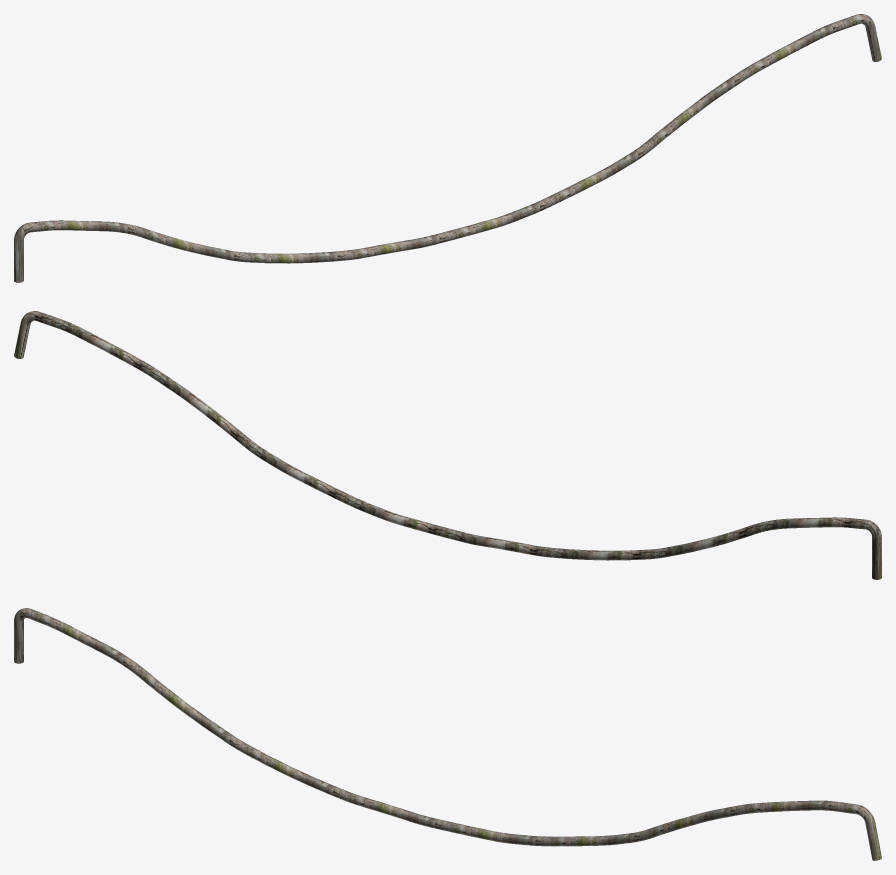
3 views of the same model, one above another, from view 1: azimuth 30°, elevation 25°; view 2: azimuth 150°, elevation 25°; view 3: azimuth 330°, elevation 25° (orthographic).
Visible parts, largest first — view 1: Line002; view 2: Line002; view 3: Line002.
Part boxes in pixels (left/top/right/bottom): Line002: left=14, top=14, right=881, bottom=282; Line002: left=14, top=311, right=881, bottom=579; Line002: left=14, top=608, right=881, bottom=860.
Bounding box in the file's own units: 1521 × 211 × 15.
